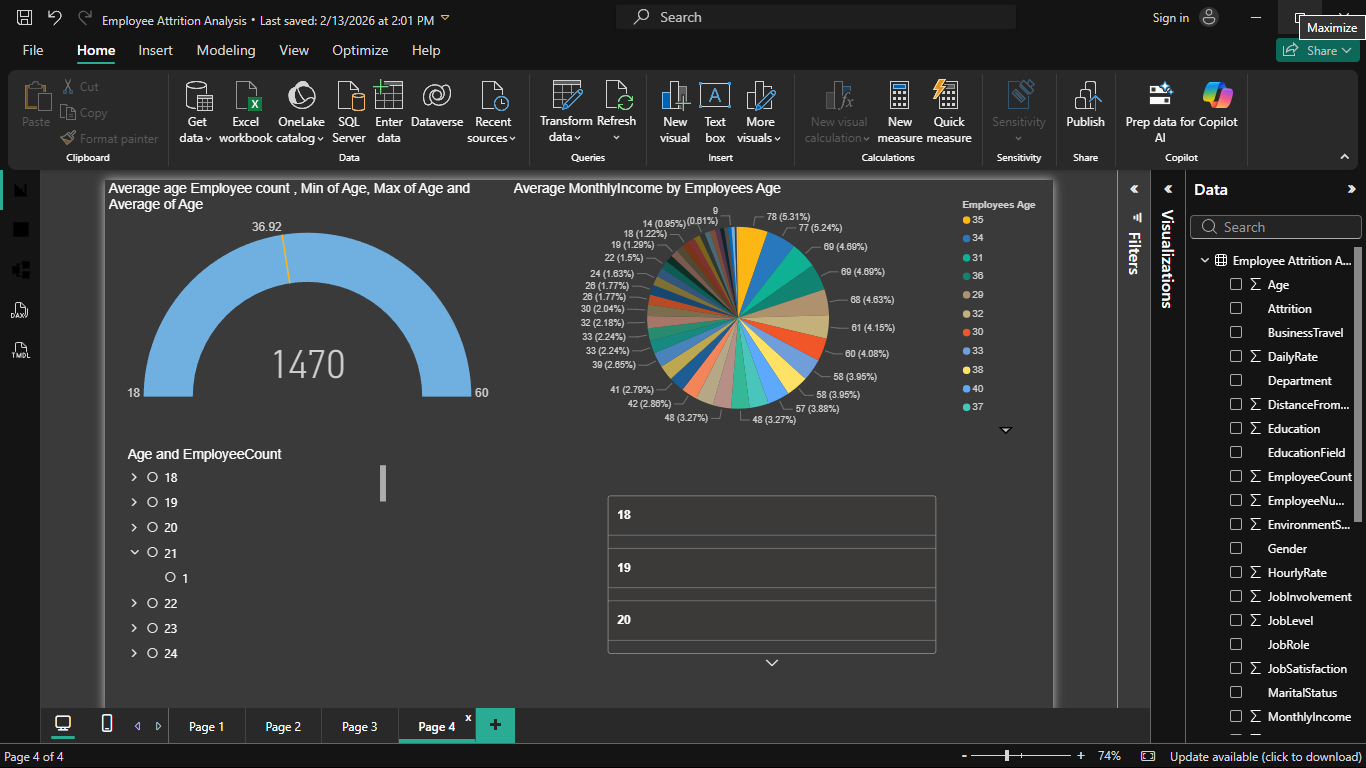

This screenshot's page, from the dashboard's own definition file:
{"tool":"powerbi","page":{"name":"Page 4","canvas":[1280,720],"ordinal":3},"visuals":[{"type":"gauge","fields":{"MinValue":["Min(Employee Attrition Analysis.Age)"],"MaxValue":["Max(Employee Attrition Analysis.Age)1"],"TargetValue":["Avg(Employee Attrition Analysis.Age)"],"Y":["CountNonNull(Employee Attrition Analysis.EmployeeCount)"]},"box":[0,0,547.3,302.7],"z":0},{"type":"listSlicer","fields":{"Values":["Employee Attrition Analysis.Age","Employee Attrition Analysis.EmployeeCount"]},"box":[25.7,359.5,359.5,308.1],"z":1000},{"type":"pieChart","fields":{"Y":["CountNonNull(Employee Attrition Analysis.MonthlyIncome)"],"Category":["Employee Attrition Analysis.Age"]},"box":[547.3,0,732.4,351.4],"z":2000},{"type":"cardVisual","fields":{"Data":["Avg(Employee Attrition Analysis.MonthlyIncome)","Min(Employee Attrition Analysis.MonthlyIncome)1","Max(Employee Attrition Analysis.MonthlyIncome)2"],"Rows":["Employee Attrition Analysis.Age"]},"box":[674.3,401.4,454.1,266.2],"z":3000}]}

Visuals, with their boxes on the page's 1280x720 design canvas (x1, y1, x2, y2). These are canvas units, not pixel positions in the 1366x768 screenshot, which may show the page scaled, cropped or inside an application window:
gauge - Min(Employee Attrition Analysis.Age) x Max(Employee Attrition Analysis.Age)1: [left=0, top=0, right=547, bottom=303]
listSlicer - Employee Attrition Analysis.Age x Employee Attrition Analysis.EmployeeCount: [left=26, top=360, right=385, bottom=668]
pieChart - CountNonNull(Employee Attrition Analysis.MonthlyIncome) x Employee Attrition Analysis.Age: [left=547, top=0, right=1280, bottom=351]
cardVisual - Avg(Employee Attrition Analysis.MonthlyIncome) x Min(Employee Attrition Analysis.MonthlyIncome)1: [left=674, top=401, right=1128, bottom=668]
